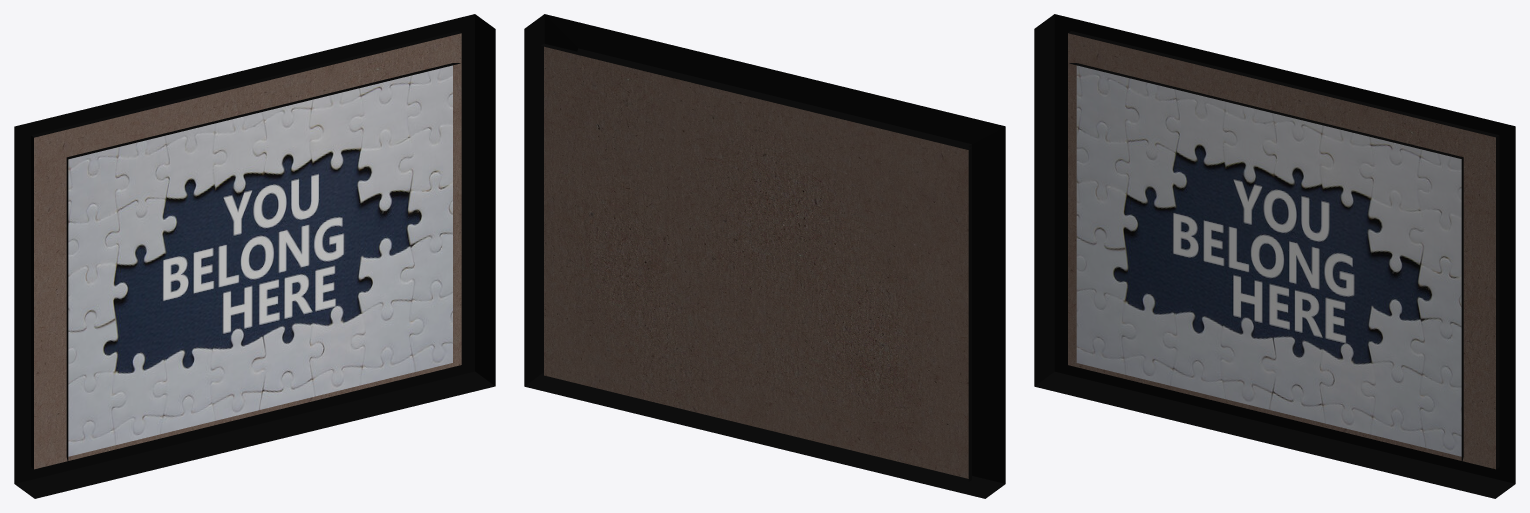
The model's file is corporate.glb.
3 renders of one model, left to right at view 1: azimuth 30°, elevation 25°; view 2: azimuth 150°, elevation 25°; view 3: azimuth 330°, elevation 25°, orthographic.
Visible parts, largest first — view 1: Frame 3; view 2: Frame 3; view 3: Frame 3.
Part boxes in pixels (x1,y1,x2,y2): Frame 3: (14, 14, 495, 498); Frame 3: (524, 14, 1005, 498); Frame 3: (1034, 14, 1515, 498).
Size of the model in its own units: 2.7 by 2 by 0.2091.
3 materials, 2 textured.
